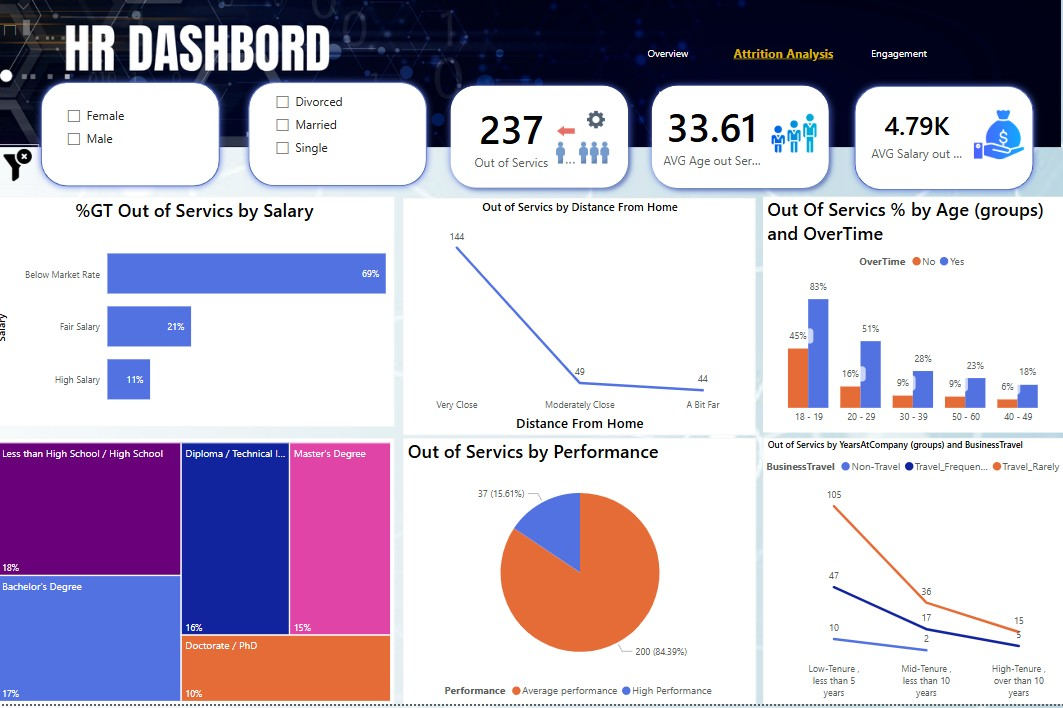

This screenshot's page, from the dashboard's own definition file:
{"tool":"powerbi","page":{"name":"Attrition Analysis","canvas":[1280,850],"ordinal":1},"visuals":[{"type":"actionButton","box":[0,0,100,40],"z":0},{"type":"shape","box":[48.9,98.9,229.4,140.2],"z":0,"group":"g6"},{"type":"shape","box":[296.7,98.9,228.9,140],"z":0,"group":"g5"},{"type":"shape","box":[778.1,101.1,229.4,140.2],"z":0,"group":"g4"},{"type":"shape","box":[536.7,102.2,230,140],"z":0,"group":"g1"},{"type":"shape","box":[1020.6,102.5,229.4,140.2],"z":0,"group":"g3"},{"type":"image","box":[0,0,1280,192.2],"z":1000},{"type":"card","fields":{"Values":["Measures Table.AVG Age out Services"]},"box":[796,117.4,126.1,101.9],"z":1000,"group":"g4"},{"type":"card","fields":{"Values":["Measures Table.Out of Servics"]},"box":[555.1,119.5,127.8,103.3],"z":1000,"group":"g1"},{"type":"group","id":"g1","title":"Group 2","box":[536.7,102.2,230,140],"z":2000},{"type":"image","box":[665.1,131.7,76.7,82.2],"z":2000,"group":"g1"},{"type":"group","id":"g2","title":"Group 4","box":[778.1,101.1,229.4,140.2],"z":3000},{"type":"group","id":"g3","title":"Group 6","box":[1020.6,102.5,229.5,140],"z":4000},{"type":"card","fields":{"Values":["Measures Table.AVG Salary out Service"]},"box":[1040.9,116.9,125.6,103.9],"z":5000},{"type":"barChart","fields":{"Category":["HR Data.Salary"],"Y":["Measures Table.Out of Servics"]},"box":[0,244,479.3,274.3],"z":6000},{"type":"lineChart","fields":{"Y":["Measures Table.Out of Servics"],"Category":["HR Data.Distance From Home"]},"box":[488.9,244.4,421.1,283.3],"z":7000},{"type":"image","box":[920.9,135.7,70.7,63.5],"z":7002,"group":"g4"},{"type":"lineClusteredColumnComboChart","fields":{"Y":["Measures Table.Out Of Servics %"],"Series":["HR Data.OverTime"],"Category":["HR Data.Age (groups)"]},"box":[920,243.8,360,281.2],"z":8000},{"type":"group","id":"g4","title":"Group 5","box":[778.1,101.1,229.4,140.2],"z":8001,"group":"g2"},{"type":"image","box":[1166,133.3,70.6,70.1],"z":8002,"group":"g3"},{"type":"pieChart","fields":{"Category":["HR Data.Performance"],"Y":["Measures Table.Out of Servics"]},"box":[489.4,531.3,421.5,319],"z":9000},{"type":"treemap","fields":{"Values":["Measures Table.Out Of Servics %"],"Details":["HR Data.Education Level"]},"box":[0,531.3,479.3,319],"z":10000},{"type":"lineChart","fields":{"Category":["HR Data.YearsAtCompany (groups)"],"Y":["Measures Table.Out of Servics"],"Series":["HR Data.BusinessTravel"]},"box":[919.6,531.3,360.9,319],"z":11000},{"type":"image","box":[3.5,180,51.8,48.2],"z":12000},{"type":"slicer","fields":{"Values":["HR Data.Attrition"]},"box":[0,0,49.2,55.7],"z":13000},{"type":"group","id":"g5","title":"Group 6","box":[296.7,98.9,228.9,140],"z":14000},{"type":"group","id":"g6","title":"Group 6","box":[48.9,98.9,229.4,140.2],"z":15000},{"type":"slicer","fields":{"Values":["HR Data.MaritalStatus"]},"box":[325.6,112.2,163.3,110],"z":16000},{"type":"slicer","fields":{"Values":["HR Data.Gender"]},"box":[75.6,127.8,181.1,75.6],"z":17000},{"type":"pageNavigator","box":[742.2,46.7,405.6,50],"z":18000}]}

Visuals, with their boxes in screenshot pixels (x1, y1, x2, y2), scaled from the page's 1280x850 canvas onto the 1063x708 screenshot:
actionButton: {"x1": 0, "y1": 0, "x2": 83, "y2": 33}
shape: {"x1": 41, "y1": 82, "x2": 231, "y2": 199}
shape: {"x1": 246, "y1": 82, "x2": 436, "y2": 199}
shape: {"x1": 646, "y1": 84, "x2": 837, "y2": 201}
shape: {"x1": 446, "y1": 85, "x2": 637, "y2": 202}
shape: {"x1": 848, "y1": 85, "x2": 1038, "y2": 202}
image: {"x1": 0, "y1": 0, "x2": 1062, "y2": 160}
card - Measures Table.AVG Age out Services: {"x1": 661, "y1": 98, "x2": 766, "y2": 183}
card - Measures Table.Out of Servics: {"x1": 461, "y1": 100, "x2": 567, "y2": 186}
"Group 2" group: {"x1": 446, "y1": 85, "x2": 637, "y2": 202}
image: {"x1": 552, "y1": 110, "x2": 616, "y2": 178}
"Group 4" group: {"x1": 646, "y1": 84, "x2": 837, "y2": 201}
"Group 6" group: {"x1": 848, "y1": 85, "x2": 1038, "y2": 202}
card - Measures Table.AVG Salary out Service: {"x1": 864, "y1": 97, "x2": 969, "y2": 184}
barChart - HR Data.Salary x Measures Table.Out of Servics: {"x1": 0, "y1": 203, "x2": 398, "y2": 432}
lineChart - Measures Table.Out of Servics x HR Data.Distance From Home: {"x1": 406, "y1": 204, "x2": 756, "y2": 440}
image: {"x1": 765, "y1": 113, "x2": 823, "y2": 166}
lineClusteredColumnComboChart - Measures Table.Out Of Servics % x HR Data.OverTime: {"x1": 764, "y1": 203, "x2": 1062, "y2": 437}
"Group 5" group: {"x1": 646, "y1": 84, "x2": 837, "y2": 201}
image: {"x1": 968, "y1": 111, "x2": 1027, "y2": 169}
pieChart - HR Data.Performance x Measures Table.Out of Servics: {"x1": 406, "y1": 443, "x2": 756, "y2": 707}
treemap - Measures Table.Out Of Servics % x HR Data.Education Level: {"x1": 0, "y1": 443, "x2": 398, "y2": 707}
lineChart - HR Data.YearsAtCompany (groups) x Measures Table.Out of Servics: {"x1": 764, "y1": 443, "x2": 1062, "y2": 707}
image: {"x1": 3, "y1": 150, "x2": 46, "y2": 190}
slicer - HR Data.Attrition: {"x1": 0, "y1": 0, "x2": 41, "y2": 46}
"Group 6" group: {"x1": 246, "y1": 82, "x2": 436, "y2": 199}
"Group 6" group: {"x1": 41, "y1": 82, "x2": 231, "y2": 199}
slicer - HR Data.MaritalStatus: {"x1": 270, "y1": 93, "x2": 406, "y2": 185}
slicer - HR Data.Gender: {"x1": 63, "y1": 106, "x2": 213, "y2": 169}
pageNavigator: {"x1": 616, "y1": 39, "x2": 953, "y2": 81}
